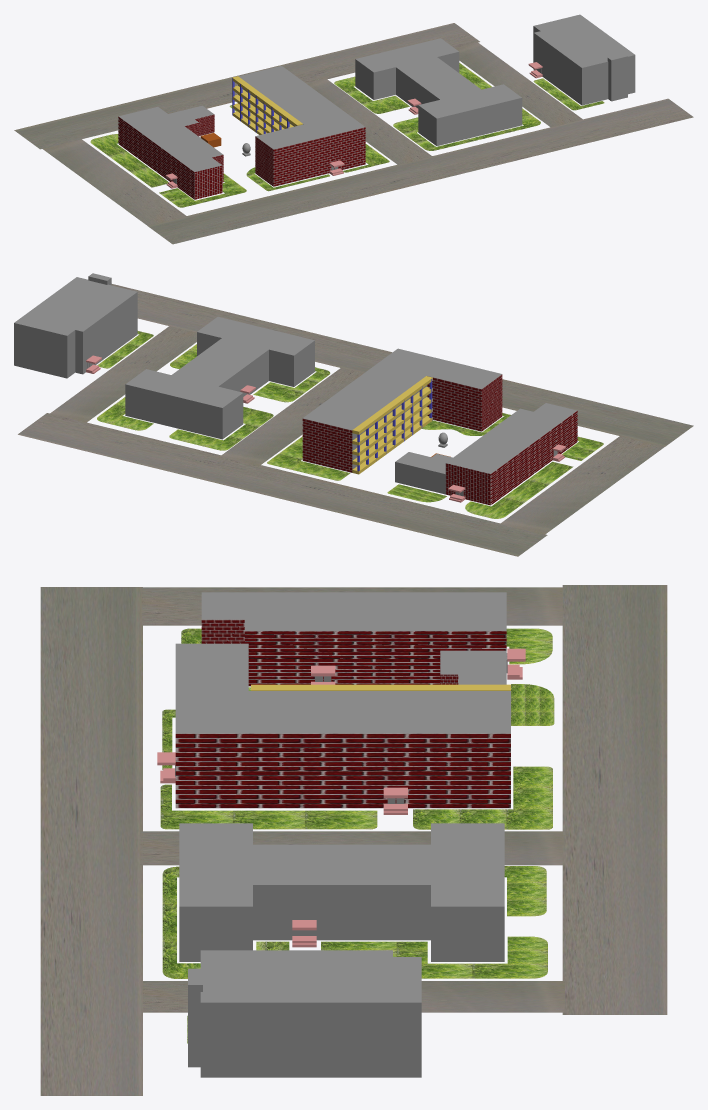
File: Teaching.obj
3 renders of one model, top to bottom at view 1: azimuth 30°, elevation 25°; view 2: azimuth 150°, elevation 25°; view 3: azimuth 270°, elevation 25°, orthographic. The views are drawn at different scales.
Parts seen in each view (by area): view 1: Rectangle06_FACES001, Box05_FACES001, Rectangle04_FACES001, Rectangle01_FACES001, Rectangle05_FACES001, Box03_FACES005, Box03_FACES004, Box02_FACES005, Rectangle03_FACES001, Box02_FACES004, Rectangle02_FACES001, Line03_FACES001 (+10 smaller); view 2: Rectangle04_FACES001, Box05_FACES001, Rectangle06_FACES001, Rectangle01_FACES001, Rectangle05_FACES001, Box03_FACES005, Box02_FACES004, Box03_FACES004, Rectangle03_FACES001, Box02_FACES005, Rectangle02_FACES001, Line03_FACES001 (+15 smaller); view 3: Rectangle06_FACES001, Rectangle04_FACES001, Box05_FACES001, Rectangle01_FACES001, Box03_FACES005, Box03_FACES004, Box02_FACES005, Box02_FACES004, Rectangle05_FACES001, Rectangle03_FACES001, Rectangle02_FACES001, Line10_FACES001 (+9 smaller).
Boxes of the visible parts, bbox=[...] form: Rectangle06_FACES001: bbox=[148, 98, 693, 244]; Box05_FACES001: bbox=[355, 38, 522, 145]; Rectangle04_FACES001: bbox=[14, 23, 479, 149]; Rectangle01_FACES001: bbox=[533, 14, 635, 105]; Rectangle05_FACES001: bbox=[43, 139, 186, 225]; Box03_FACES005: bbox=[255, 127, 365, 186]; Box03_FACES004: bbox=[238, 65, 364, 137]; Box02_FACES005: bbox=[118, 114, 223, 199]; Rectangle03_FACES001: bbox=[455, 42, 582, 127]; Box02_FACES004: bbox=[119, 106, 222, 171]; Rectangle02_FACES001: bbox=[307, 79, 432, 164]; Line03_FACES001: bbox=[90, 134, 168, 187]; Rectangle04_FACES001: bbox=[18, 413, 547, 556]; Box05_FACES001: bbox=[125, 316, 314, 439]; Rectangle06_FACES001: bbox=[111, 284, 693, 446]; Rectangle01_FACES001: bbox=[14, 273, 137, 378]; Rectangle05_FACES001: bbox=[500, 436, 664, 534]; Box03_FACES005: bbox=[302, 374, 502, 472]; Box02_FACES004: bbox=[395, 403, 576, 494]; Box03_FACES004: bbox=[303, 348, 447, 430]; Rectangle03_FACES001: bbox=[50, 326, 196, 422]; Box02_FACES005: bbox=[445, 411, 577, 505]; Rectangle02_FACES001: bbox=[220, 368, 363, 465]; Line03_FACES001: bbox=[465, 461, 573, 518]; Rectangle06_FACES001: bbox=[40, 587, 142, 1095]; Rectangle04_FACES001: bbox=[562, 585, 667, 1014]; Box05_FACES001: bbox=[179, 823, 504, 961]; Rectangle01_FACES001: bbox=[188, 950, 421, 1077]; Box03_FACES005: bbox=[175, 733, 510, 808]; Box03_FACES004: bbox=[175, 691, 510, 733]; Box02_FACES005: bbox=[201, 619, 506, 686]; Box02_FACES004: bbox=[201, 592, 506, 630]; Rectangle05_FACES001: bbox=[141, 587, 565, 625]; Rectangle03_FACES001: bbox=[142, 981, 564, 1012]; Rectangle02_FACES001: bbox=[140, 831, 568, 865]; Line10_FACES001: bbox=[321, 936, 547, 978].
Bounding box in the file's own units: 198 × 14.89 × 103.
